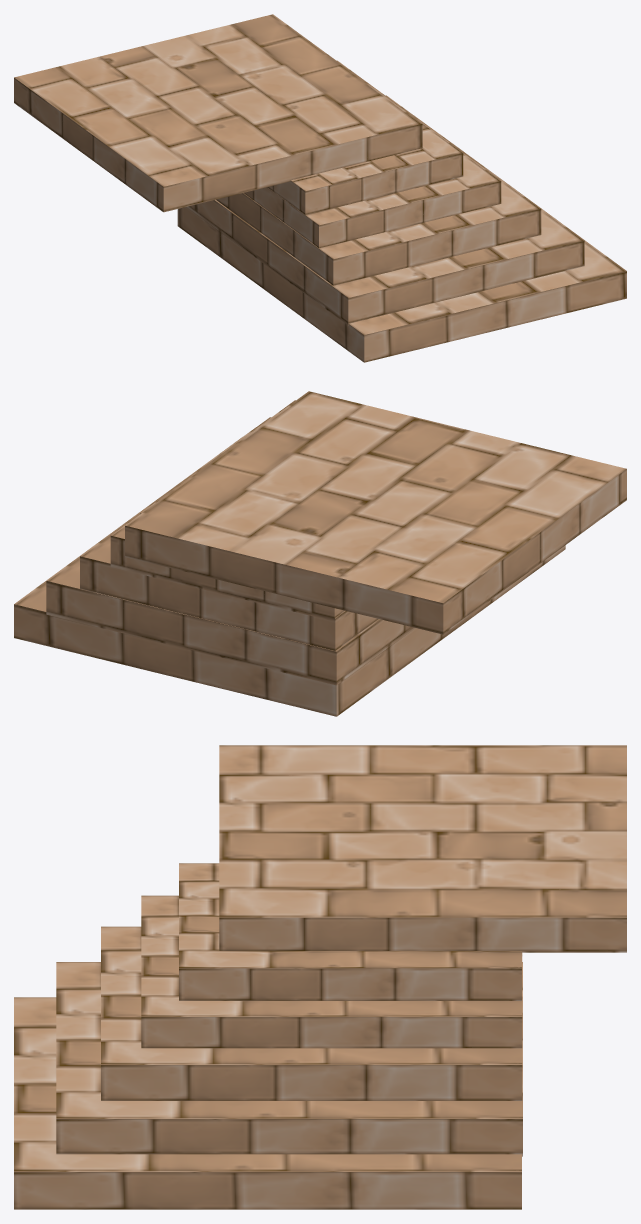
The model's file is floor.fbx.
The picture shows the model from 3 angles, top to bottom: view 1: azimuth 30°, elevation 25°; view 2: azimuth 150°, elevation 25°; view 3: azimuth 270°, elevation 25°; orthographic projection. The views are drawn at different scales.
Parts seen in each view (by area): view 1: floor; view 2: floor; view 3: floor.
Boxes of the visible parts, x1=… form: floor: x1=14, y1=14, x2=626, y2=362; floor: x1=14, y1=391, x2=626, y2=716; floor: x1=14, y1=745, x2=626, y2=1209.
Size of the model in its own units: 929 by 346 by 933.
